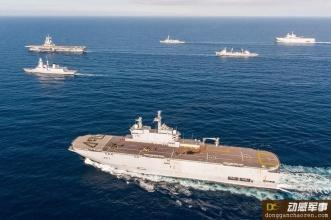warship: (63, 116, 288, 187), (16, 56, 83, 76), (18, 34, 87, 50), (212, 44, 261, 58), (274, 31, 321, 45), (159, 33, 191, 48)
